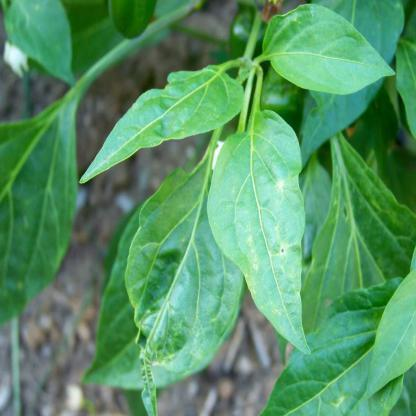Bell_pepper leaf spot: (125, 165, 252, 396), (209, 105, 312, 360), (75, 64, 246, 182), (264, 1, 400, 96)
